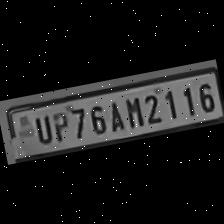1: (158, 86, 181, 122), (175, 83, 197, 118)
2: (138, 89, 164, 126)
6: (83, 101, 108, 137), (192, 78, 217, 114)
7: (65, 104, 89, 140)
A: (103, 96, 126, 133)
M: (120, 92, 144, 130)
P: (48, 108, 72, 142)
U: (29, 110, 54, 145)
